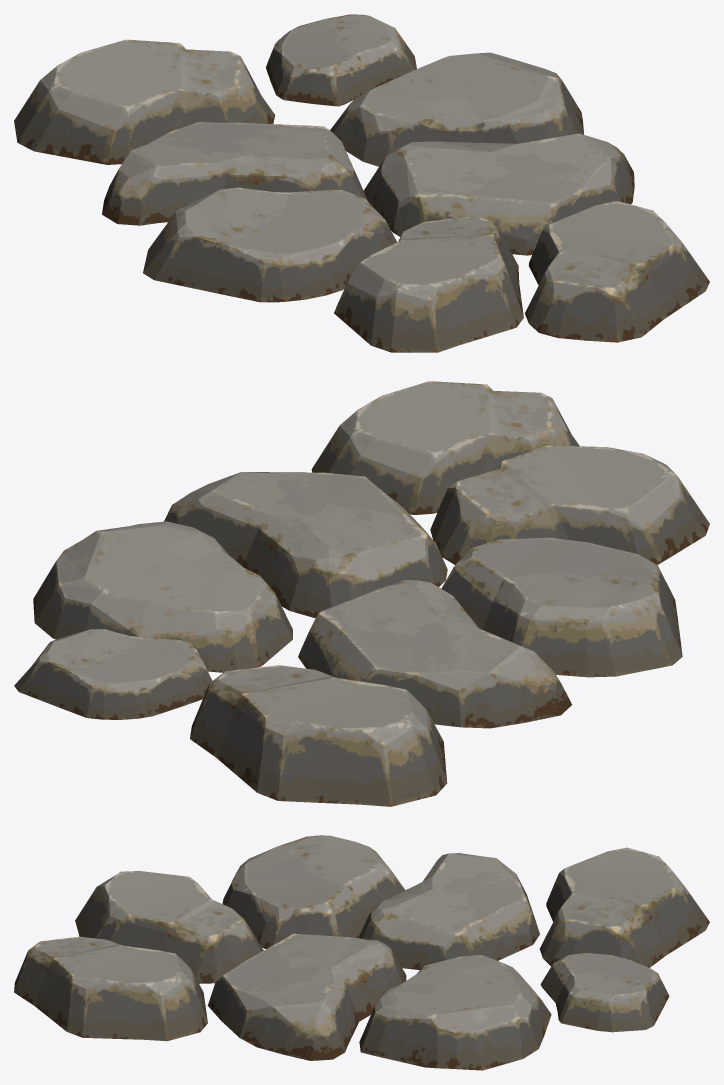
Rendered from RockPath_Round_Small_1__go_coast.glb.
The picture shows the model from 3 angles, top to bottom: view 1: azimuth 30°, elevation 25°; view 2: azimuth 150°, elevation 25°; view 3: azimuth 270°, elevation 25°; orthographic projection. The views are drawn at different scales.
Visible parts, largest first — view 1: RockPath_Round_Small_1; view 2: RockPath_Round_Small_1; view 3: RockPath_Round_Small_1.
Boxes of the visible parts, box(x1,y1,x2,y2) form: RockPath_Round_Small_1: box(14, 14, 709, 352); RockPath_Round_Small_1: box(14, 381, 709, 806); RockPath_Round_Small_1: box(14, 835, 709, 1070).
Size of the model in its own units: 1.06 by 0.1128 by 1.48.
1 material, 1 textured.
